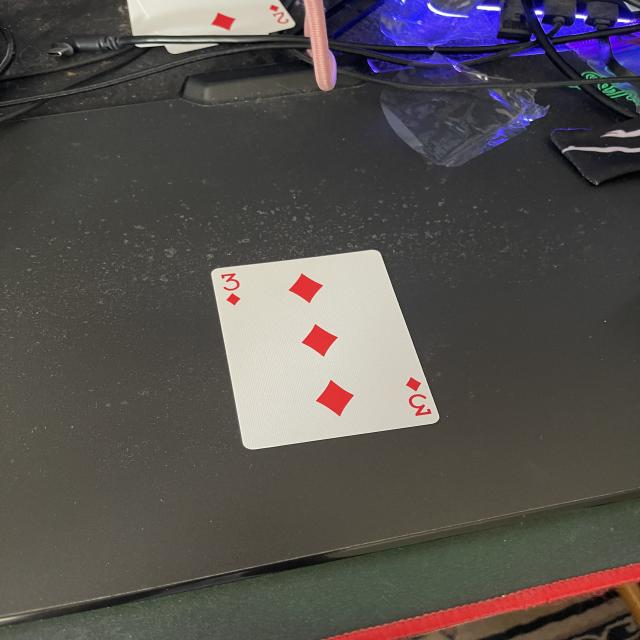2 of diamonds: (138, 1, 295, 34)
3 of diamonds: (212, 252, 439, 449)
